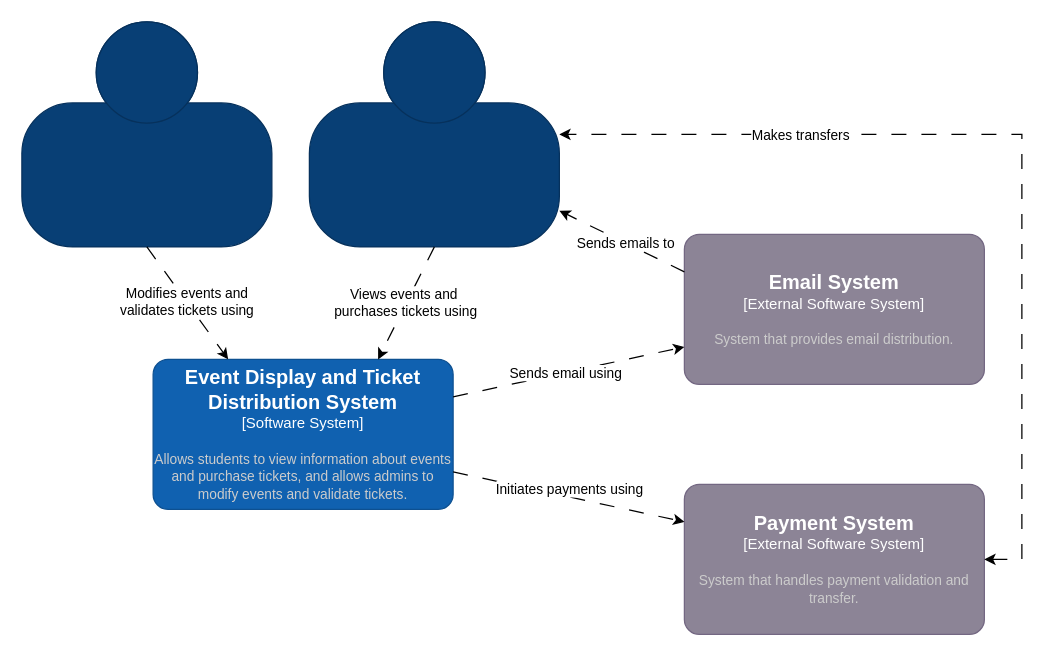
This 1055x656 diagram has some shape labels left out. The shapes that lost their labels are listed below. From the top down, each one's box as (x1, y1, x2, y2) in pixels, then its label:
(21, 21, 272, 247): Admininistrator [Person] A staff member of our organisation.
(308, 21, 559, 247): Student [Person] A customer.
